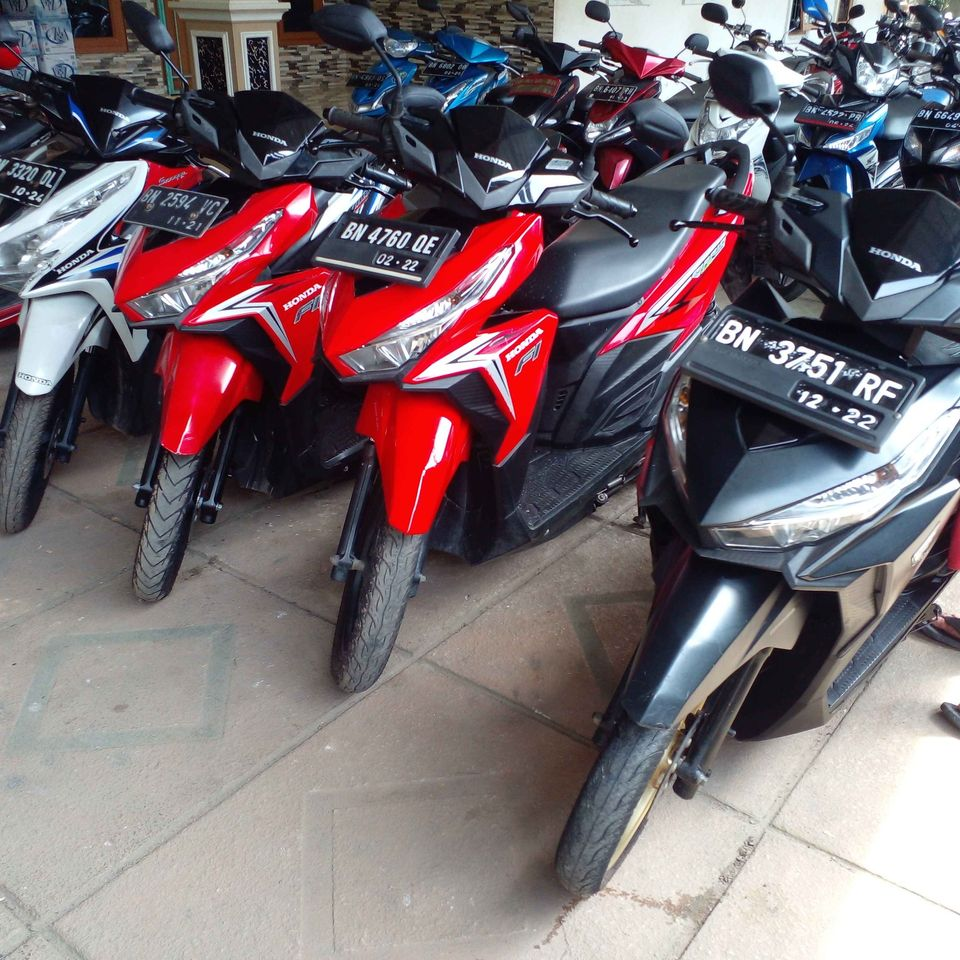plate: (692, 294, 911, 450), (327, 202, 442, 280), (126, 183, 236, 244)
